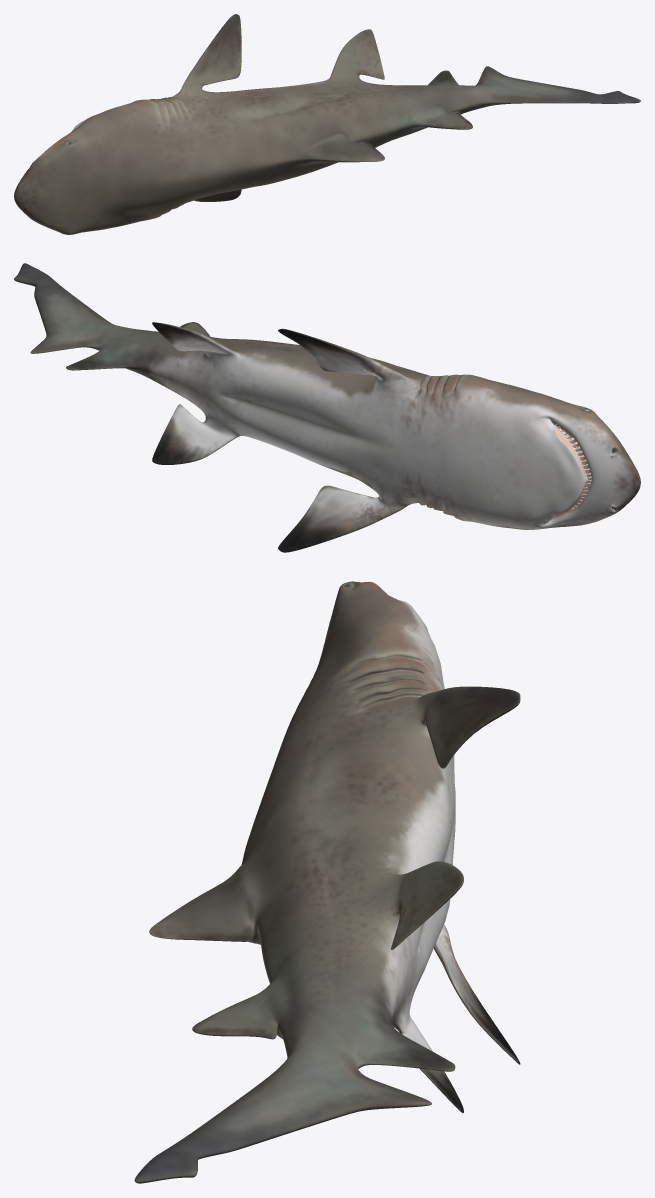
The model's file is sw_shark.glb.
3 renders of one model, top to bottom at view 1: azimuth 30°, elevation 25°; view 2: azimuth 150°, elevation 25°; view 3: azimuth 270°, elevation 25°, orthographic. The views are drawn at different scales.
Visible parts, largest first — view 1: Object_2; view 2: Object_2; view 3: Object_2.
Part boxes in pixels (bbox=[...]): Object_2: bbox=[14, 14, 640, 234]; Object_2: bbox=[14, 263, 640, 552]; Object_2: bbox=[134, 581, 520, 1183].
Size of the model in its own units: 247 by 76.73 by 72.64.
1 material, 1 textured.
